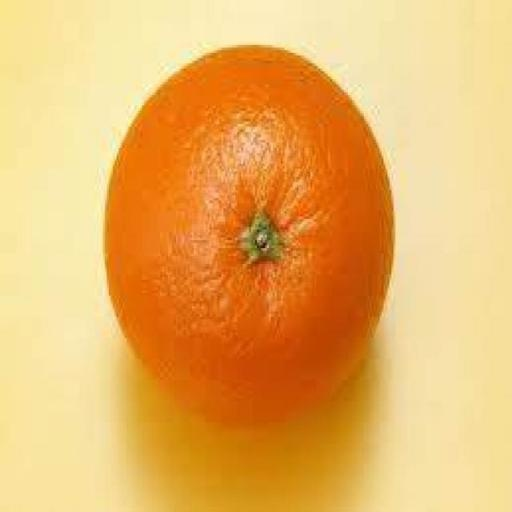fruit: (105, 47, 393, 423)
